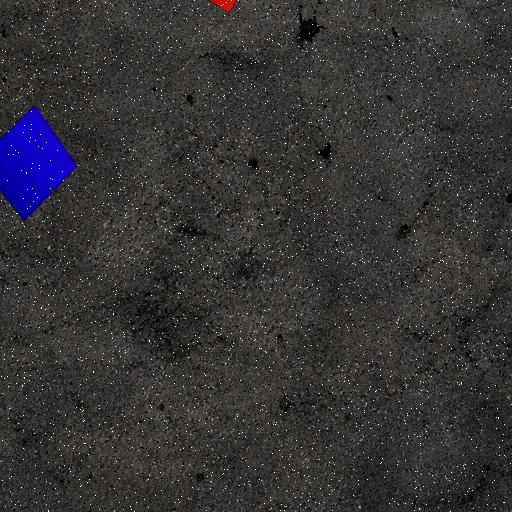BLUE_SQUARE: (0, 105, 78, 222)
RED_SQUARE: (198, 0, 249, 14)
